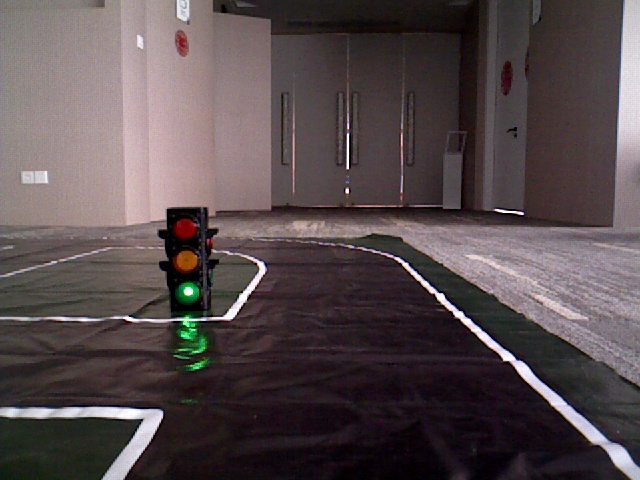green: (165, 210, 204, 302)
